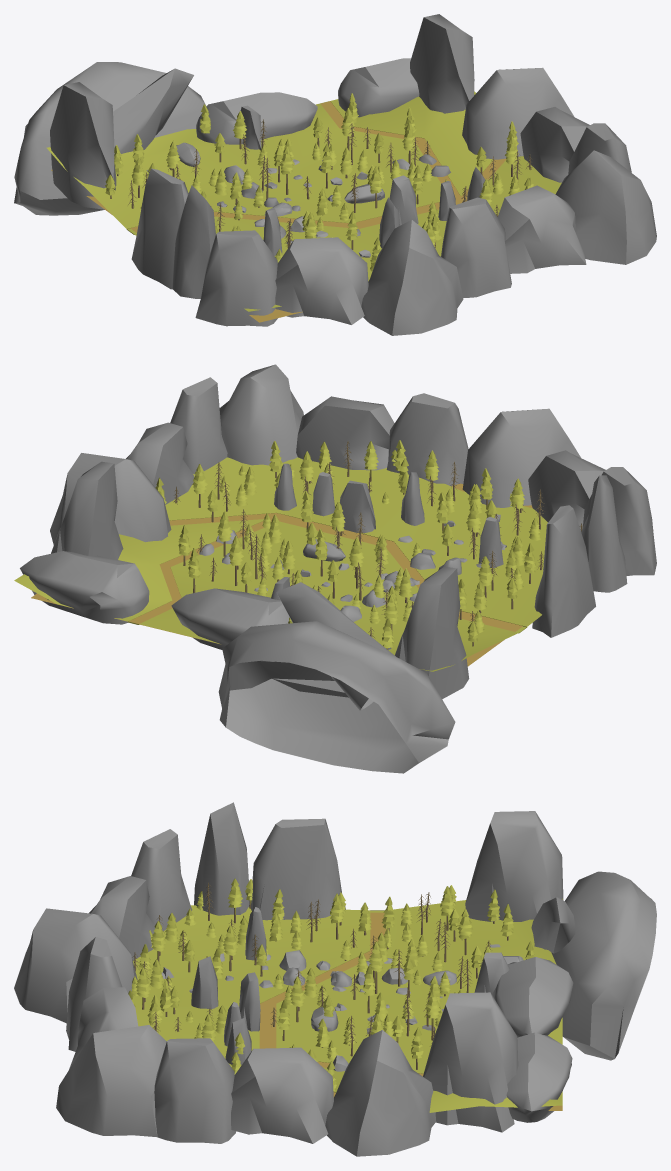
The model's file is parco-scena.glb.
The picture shows the model from 3 angles, top to bottom: view 1: azimuth 30°, elevation 25°; view 2: azimuth 150°, elevation 25°; view 3: azimuth 270°, elevation 25°; orthographic projection. The views are drawn at different scales.
Parts seen in each view (by area): view 1: Object_2, Object_4, Object_3; view 2: Object_2, Object_3, Object_4, Object_5; view 3: Object_2, Object_3, Object_4, Object_5.
Boxes of the visible parts, bbox=[...] form: Object_2: bbox=[50, 14, 656, 335]; Object_4: bbox=[46, 91, 561, 311]; Object_3: bbox=[14, 58, 521, 322]; Object_2: bbox=[50, 364, 656, 710]; Object_3: bbox=[20, 462, 582, 773]; Object_4: bbox=[14, 441, 547, 671]; Object_5: bbox=[173, 475, 522, 581]; Object_2: bbox=[14, 802, 575, 1156]; Object_3: bbox=[132, 871, 656, 1122]; Object_4: bbox=[132, 878, 562, 1112]; Object_5: bbox=[167, 928, 464, 1046].
Size of the model in its own units: 120 by 40.69 by 131.
1 material, 1 textured.
